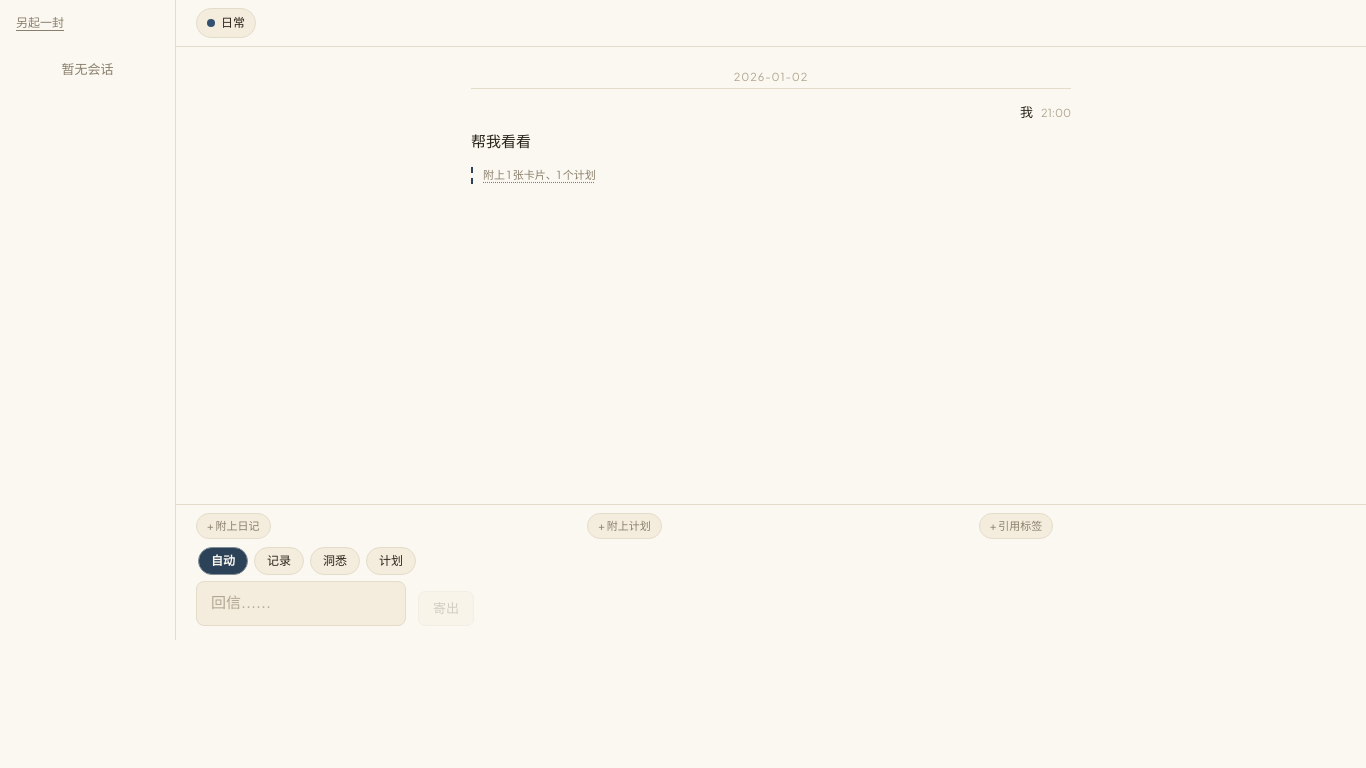
Test case: ChatScene › shows an attach note with card and plan counts on the user letter
Expected: the element with test id "letter-attach-note" is shown, [471, 167, 1071, 184]
Expected: the text "和夜记聊了睡眠" is not shown
Click the button "附上 1 张卡片、1 个计划".
click(539, 176)  # box [483, 167, 596, 184]
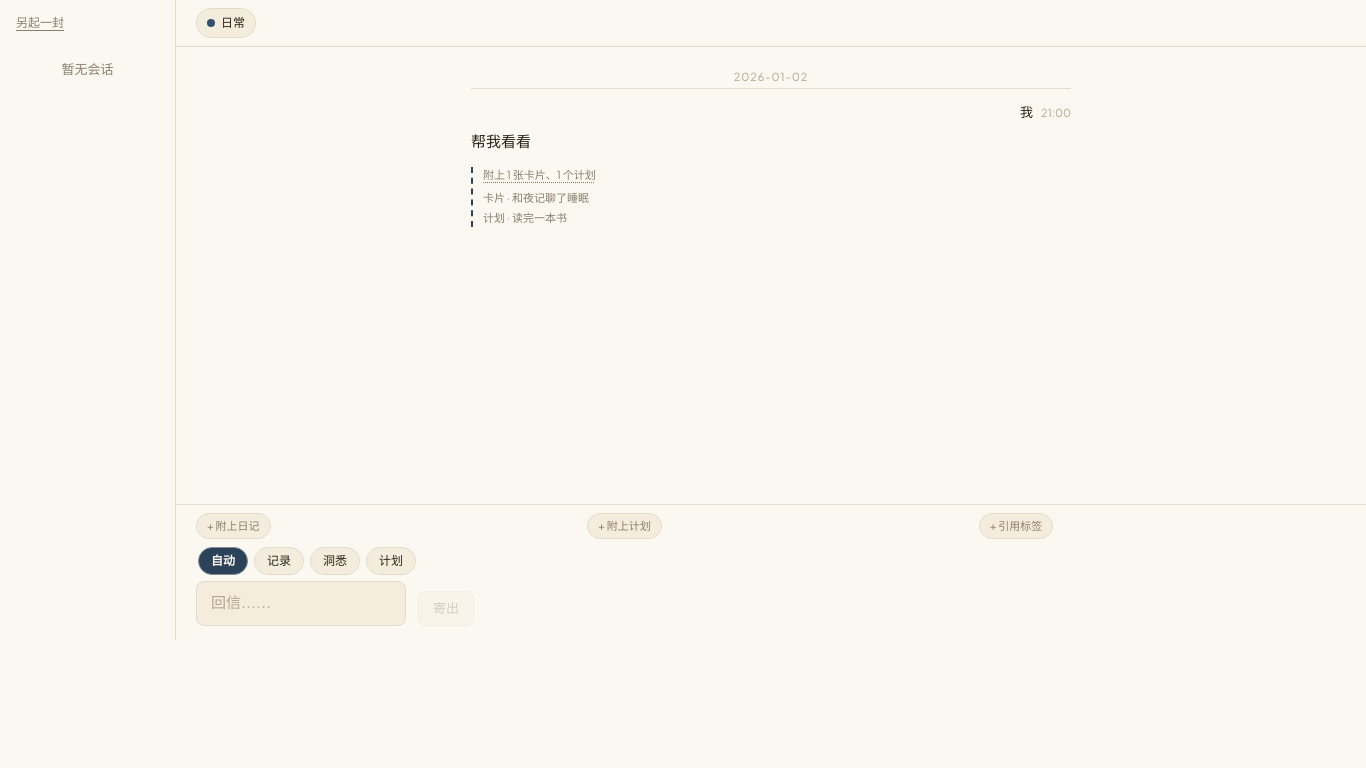
Expected: the number of list items with test id "letter-attach-note-item" is 2, [483, 191, 589, 204]; [483, 211, 567, 224]
Expected: the text "和夜记聊了睡眠" is shown, [483, 191, 589, 204]
Expected: the text "读完一本书" is shown, [483, 211, 567, 224]
